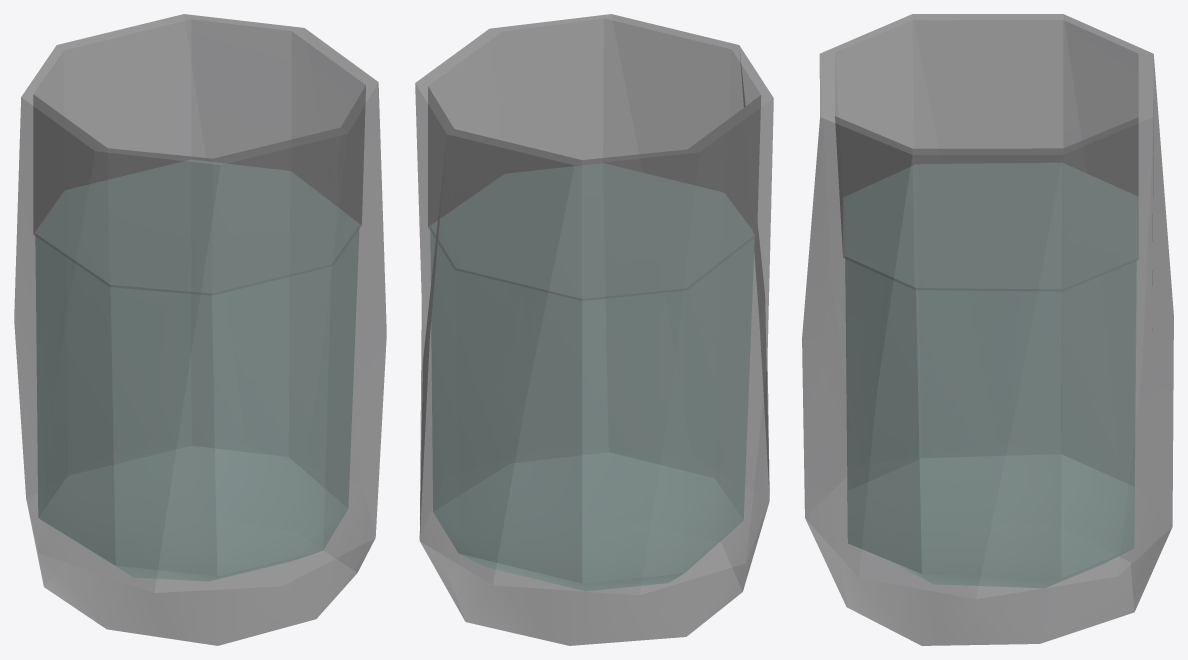
Rendered from Agua.fbx.
3 renders of one model, left to right at view 1: azimuth 30°, elevation 25°; view 2: azimuth 150°, elevation 25°; view 3: azimuth 270°, elevation 25°, orthographic.
Visible parts, largest first — view 1: polySurface17; view 2: polySurface17; view 3: polySurface17.
Boxes of the visible parts, left/top/right/bottom form: polySurface17: left=14, top=14, right=386, bottom=645; polySurface17: left=415, top=14, right=773, bottom=645; polySurface17: left=802, top=14, right=1173, bottom=645.
Bounding box in the file's own units: 1.11 × 1.66 × 1.11.
